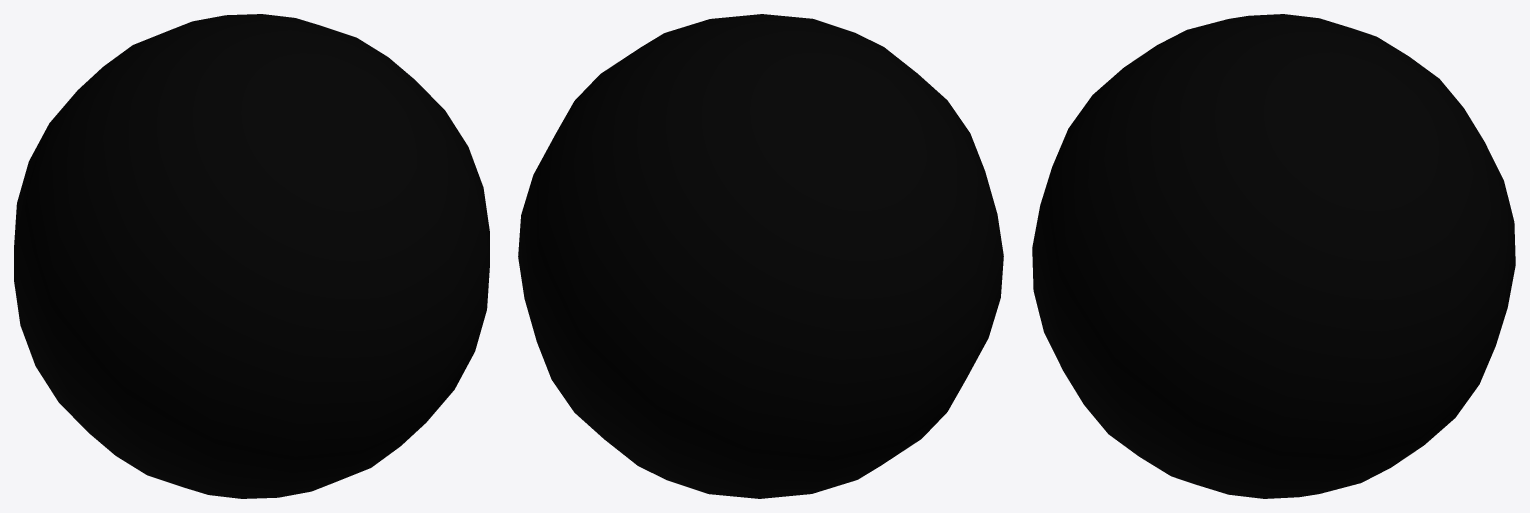
Rendered from eye.fbx.
The picture shows the model from 3 angles, left to right: view 1: azimuth 30°, elevation 25°; view 2: azimuth 150°, elevation 25°; view 3: azimuth 270°, elevation 25°; orthographic projection.
Visible parts, largest first — view 1: node_id3; view 2: node_id3; view 3: node_id3.
Part boxes in pixels (left/top/right/bottom): node_id3: left=14, top=14, right=489, bottom=498; node_id3: left=518, top=14, right=1003, bottom=498; node_id3: left=1032, top=14, right=1515, bottom=498.
Bounding box in the file's own units: 0.5108 × 0.5107 × 0.5095.
Materials: 1 (1 with a texture image).
